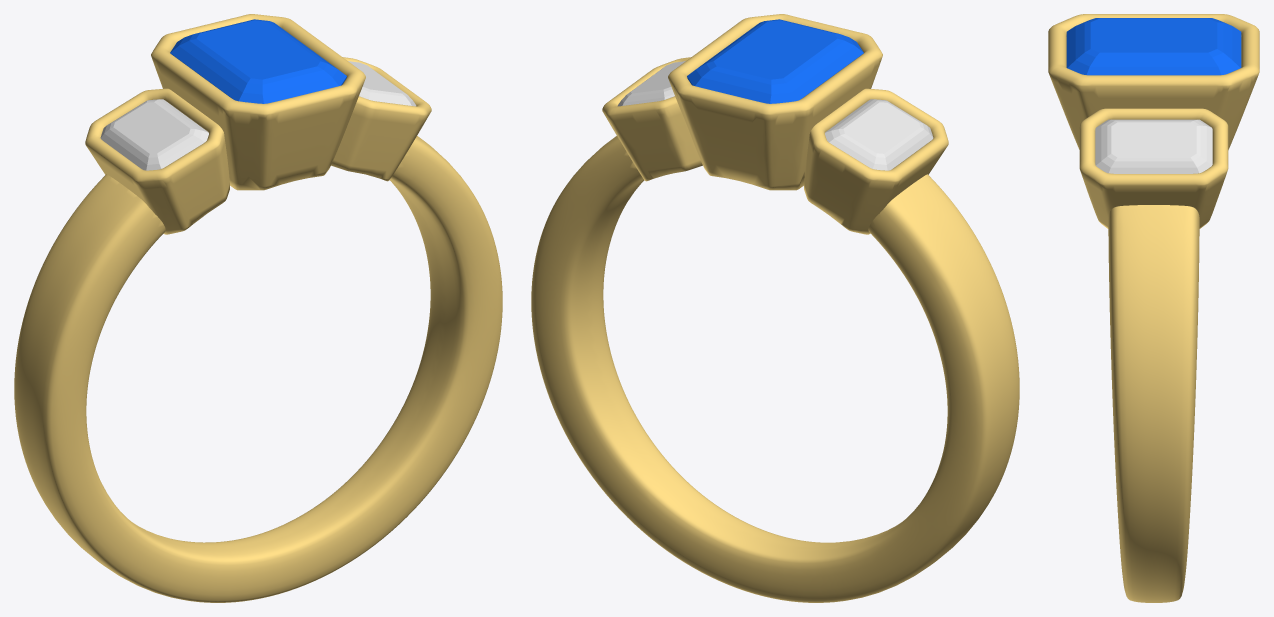
File: bluesapphire-emerald-yellowgold-bezelset-straighttaperedband-3stone.glb
3 views of the same model, side by side, from view 1: azimuth 30°, elevation 25°; view 2: azimuth 150°, elevation 25°; view 3: azimuth 270°, elevation 25° (orthographic).
Visible parts, largest first — view 1: metal.002, stone.001, side.001, side.005; view 2: metal.002, stone.001, side.001, side.005; view 3: metal.002, stone.001, side.005.
Part boxes in pixels (x1,y1,x2,y2): metal.002: (14,14,502,602); stone.001: (170,19,346,103); side.001: (100,99,208,170); side.005: (348,61,416,106); metal.002: (531,14,1019,602); stone.001: (687,19,863,103); side.001: (825,99,933,170); side.005: (617,61,685,106); metal.002: (1048,14,1259,602); stone.001: (1066,18,1241,75); side.005: (1095,119,1212,173).
Bounding box in the file's own units: 20.48 × 22.94 × 8.11.
